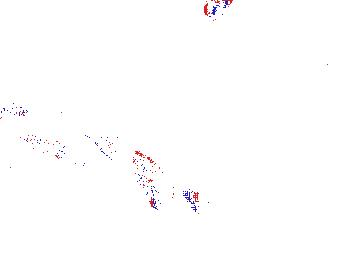red belly glassfish: (203, 1, 233, 17)
redtail glassfish: (131, 150, 199, 210), (23, 131, 113, 166)
